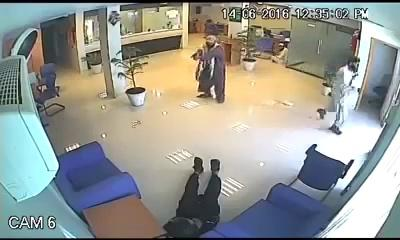weapon: (189, 50, 198, 59)
